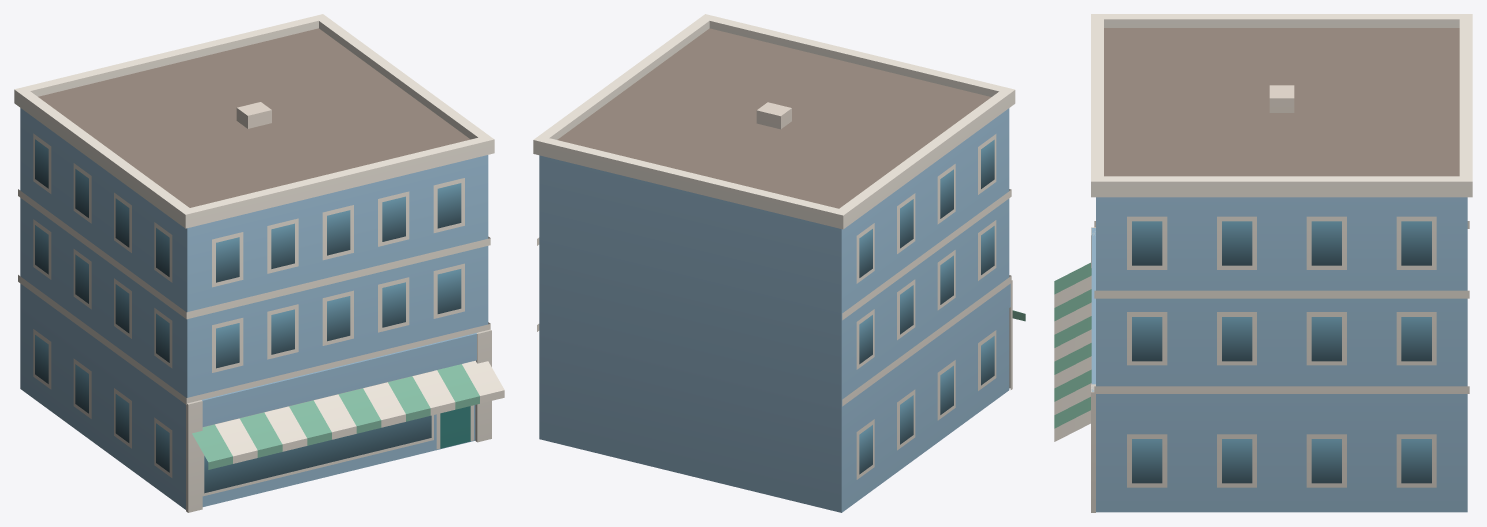
The model's file is beacon_w1_far.glb.
The picture shows the model from 3 angles, left to right: view 1: azimuth 30°, elevation 25°; view 2: azimuth 150°, elevation 25°; view 3: azimuth 270°, elevation 25°; orthographic projection. The views are drawn at different scales.
Visible parts, largest first — view 1: beacon_w1_far; view 2: beacon_w1_far; view 3: beacon_w1_far.
Part boxes in pixels (left/top/right/bottom): beacon_w1_far: left=14, top=14, right=504, bottom=512; beacon_w1_far: left=533, top=14, right=1025, bottom=512; beacon_w1_far: left=1054, top=14, right=1472, bottom=512.
Size of the model in its own units: 12.82 by 12.07 by 13.51.
Materials: 1 (1 with a texture image).
